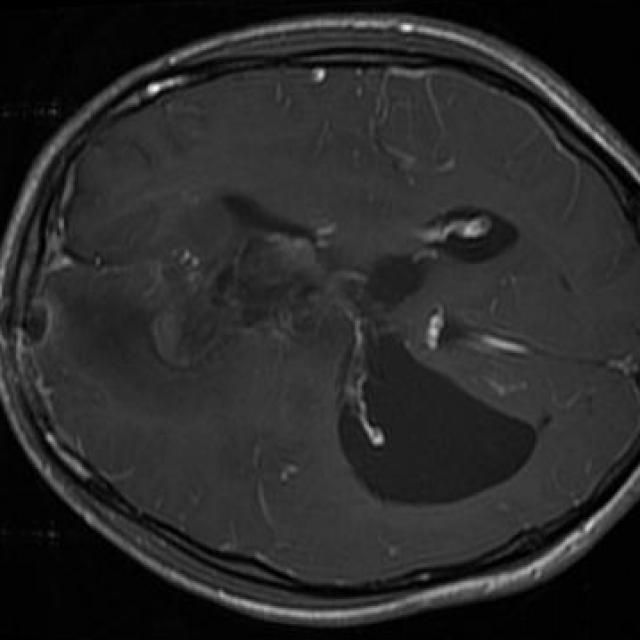glioma: (78, 196, 365, 398)
